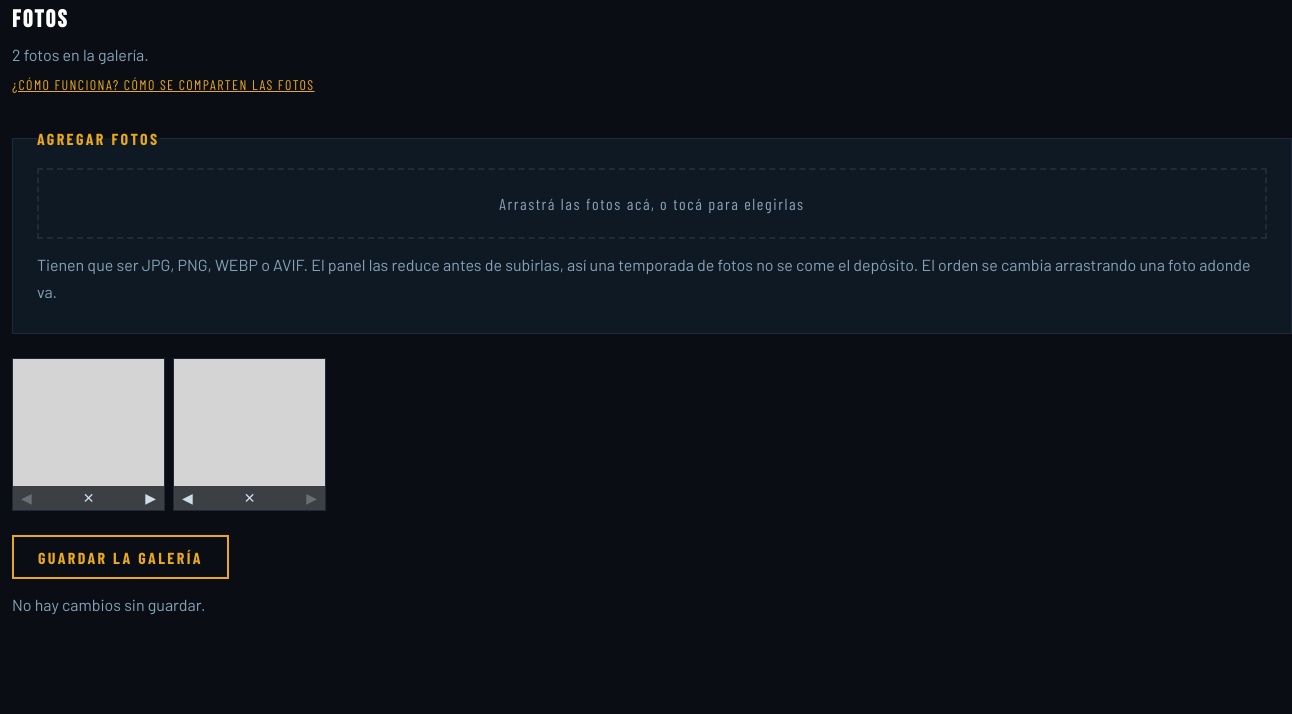
Test: PhotosScreen › says the rows came off even when the bucket kept the files
What coordinates should you click on to do the following:
click the button named "Quitar la foto 1 de la galería"
I would click on:
 (88, 498)
Its box is x1=75 y1=486 x2=102 y2=510.
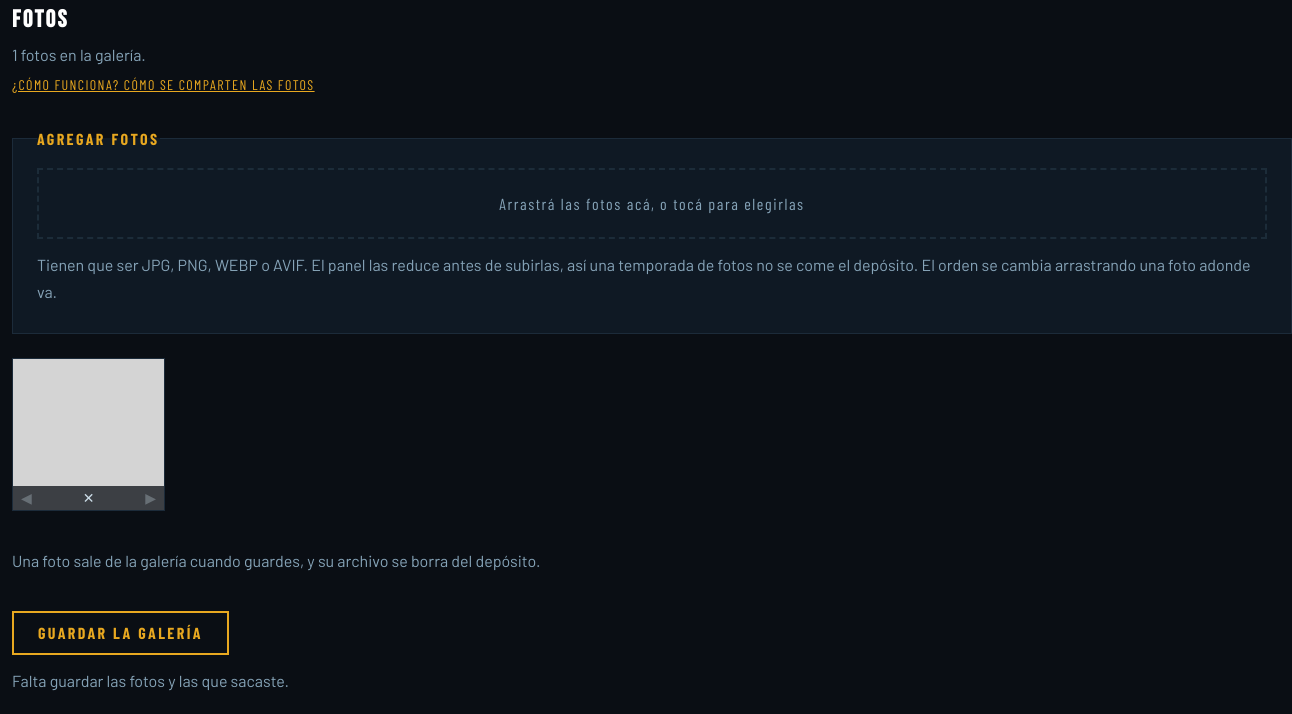
What coordinates should you click on to do the following:
click the button "Guardar la galería"
I would click on:
 (120, 632)
Its box is x1=12 y1=610 x2=229 y2=654.
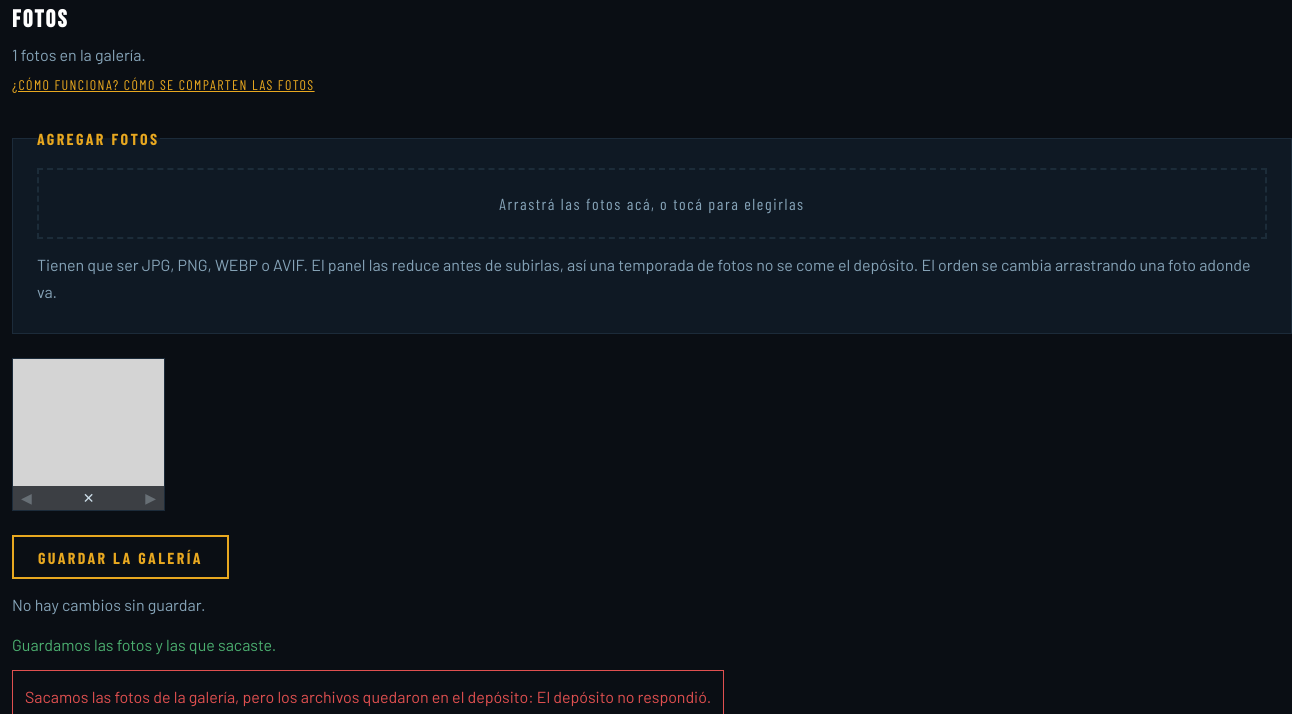
Expected: the 2nd message shows "Sacamos las fotos de la galería, pero los archivos quedaron en el depósito: El depósito no respondió.", x1=25 y1=687 x2=711 y2=706
Expected: the text "Guardamos las fotos y las que sacaste." is shown, x1=12 y1=630 x2=276 y2=658
